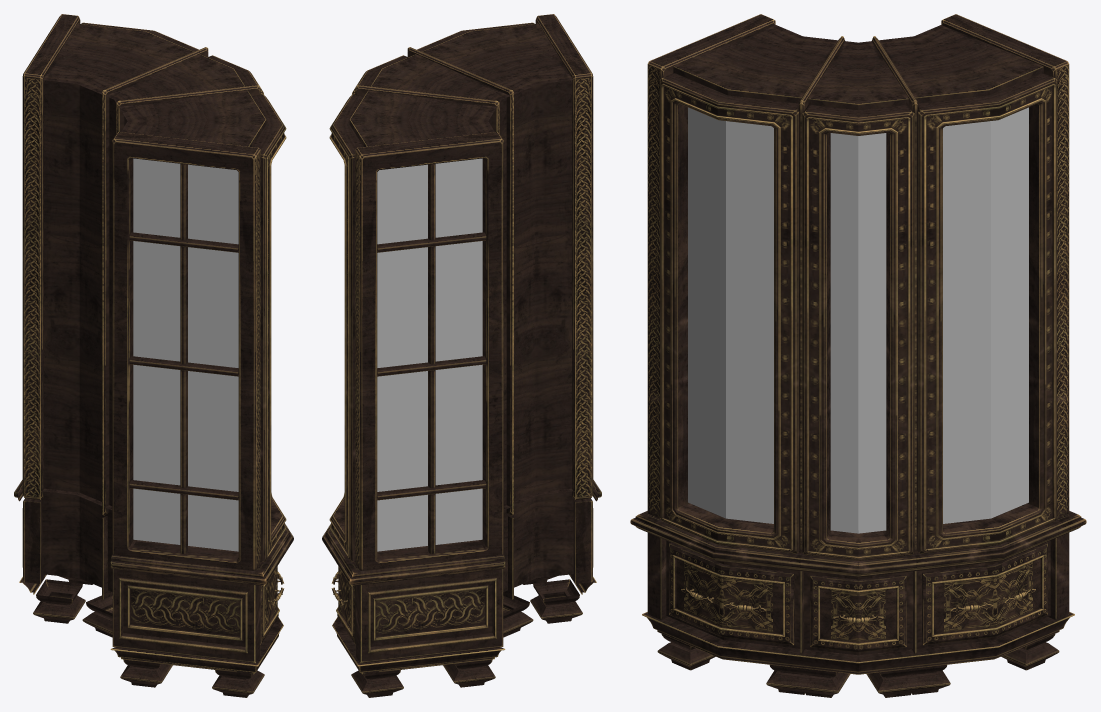
The model's file is SM_Vitrin3_Outward60D.fbx.
The picture shows the model from 3 angles, left to right: view 1: azimuth 30°, elevation 25°; view 2: azimuth 150°, elevation 25°; view 3: azimuth 270°, elevation 25°; orthographic projection. The views are drawn at different scales.
Parts seen in each view (by area): view 1: SM_Vitrin3_Outward60D_LOD0; view 2: SM_Vitrin3_Outward60D_LOD0; view 3: SM_Vitrin3_Outward60D_LOD0.
Boxes of the visible parts, x1,y1,x2,y2 form: SM_Vitrin3_Outward60D_LOD0: [14, 14, 293, 697]; SM_Vitrin3_Outward60D_LOD0: [322, 14, 601, 697]; SM_Vitrin3_Outward60D_LOD0: [630, 14, 1086, 697].
Bounding box in the file's own units: 86.29 × 160 × 233.
Materials: 2 (1 with a texture image).
